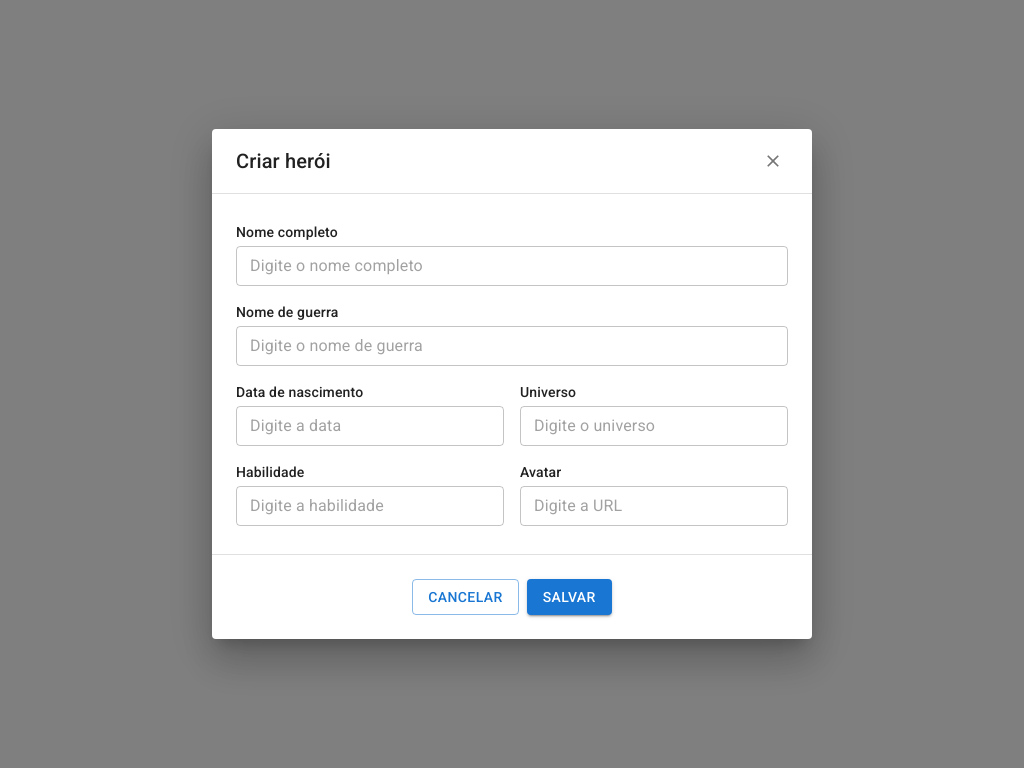
HeroFormDialog › shows validation errors and preserves entered values on invalid submission
Type "Bruce Wayne" into the field labelled "Nome completo".
click(512, 266); type("Bruce Wayne")  # box [236,246,788,286]
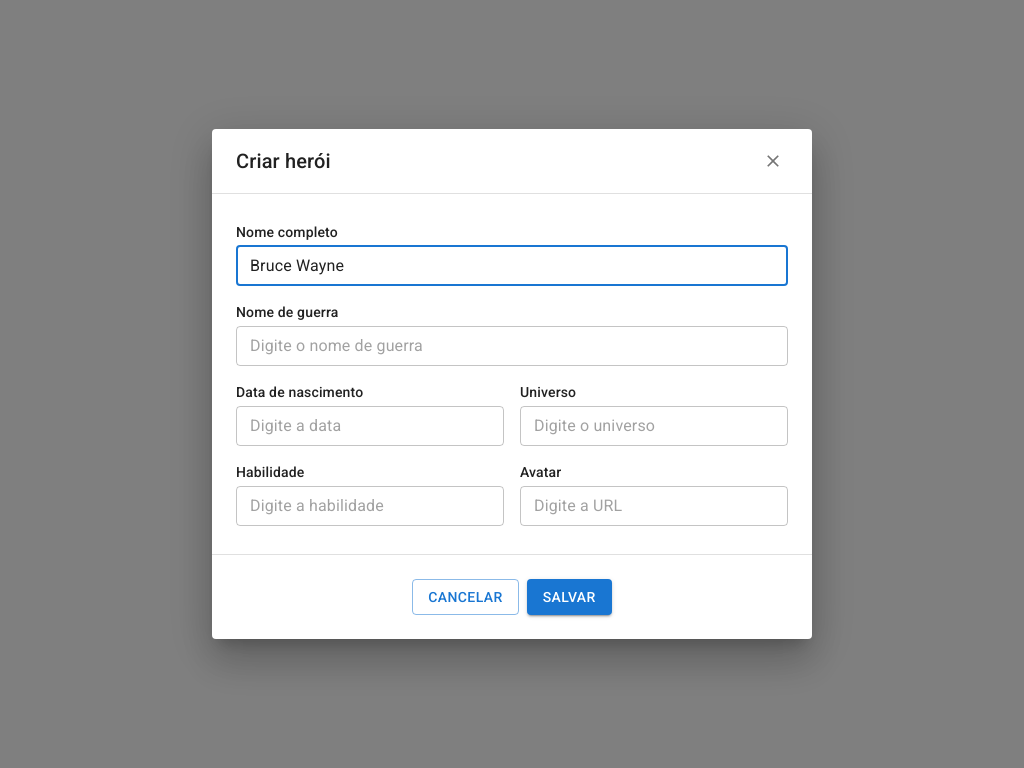
// Leave other required fields empty and submit.
Click the button "Salvar".
click(569, 597)  # box [527,579,612,615]
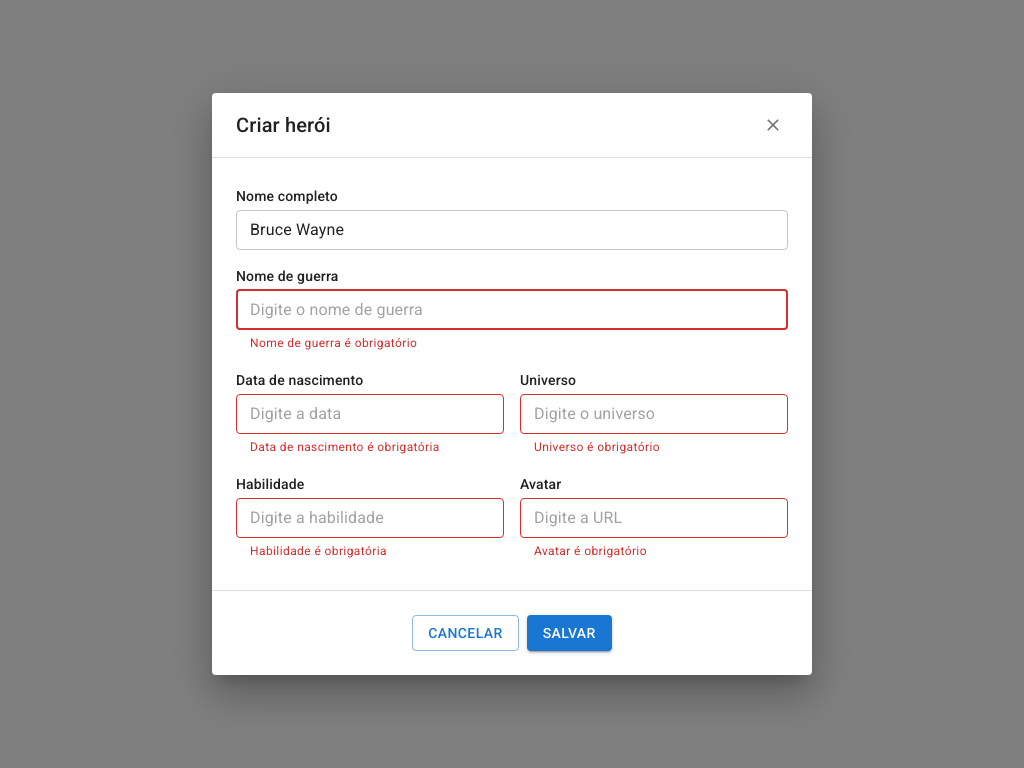
Now the text "Nome de guerra é obrigatório" is shown, box [250,336,417,350]
